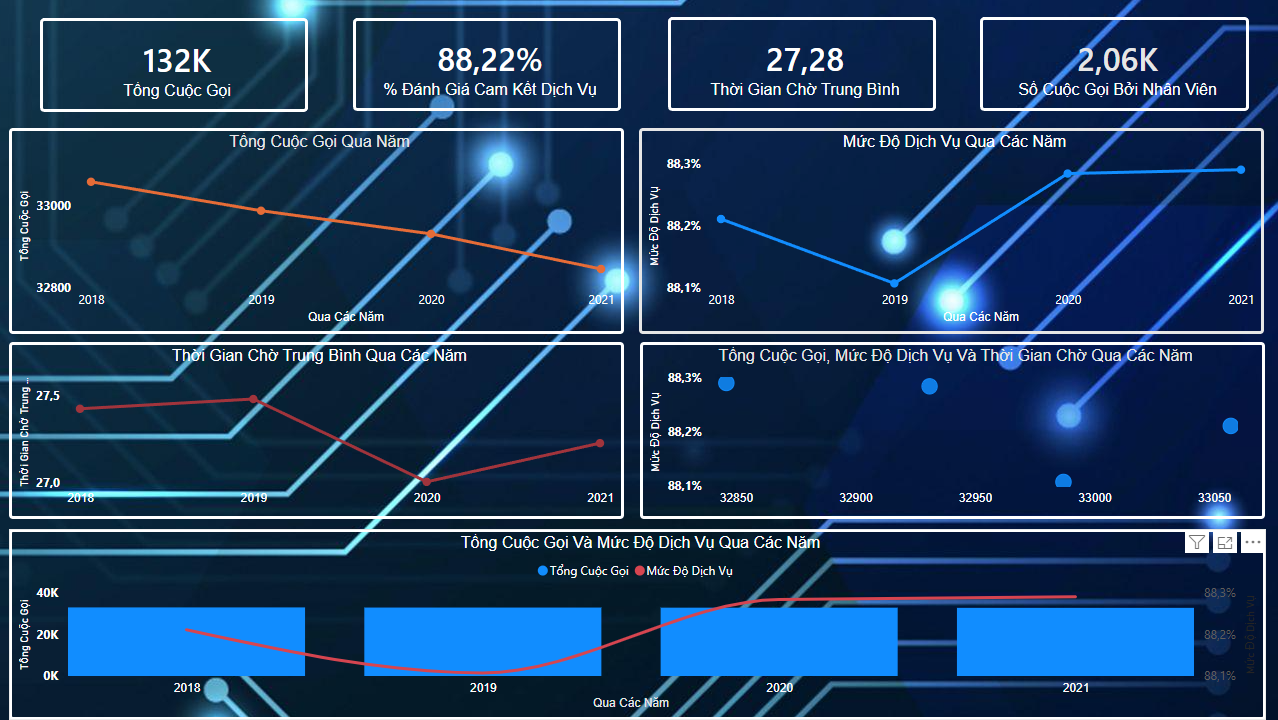

What the dashboard file says about the page in this screenshot:
{"tool":"powerbi","page":{"name":"Page 3","canvas":[1280,720],"ordinal":2},"visuals":[{"type":"cardVisual","fields":{"Data":["CCA.Total Calls"]},"box":[23.3,0.9,301.9,127.7],"z":0},{"type":"cardVisual","fields":{"Data":["CCA.Rep SLA %"]},"box":[335.5,0.9,302.7,126.8],"z":1000},{"type":"cardVisual","fields":{"Data":["CCA.Rep Avg Wait"]},"box":[651.2,0,301.9,127.7],"z":2000},{"type":"cardVisual","fields":{"Data":["CCA.Calls per Employee"]},"box":[963.5,0,302.7,127.7],"z":3000},{"type":"lineChart","title":"Tổng Cuộc Gọi  Qua Năm","fields":{"Category":["Calendar.Year"],"Y":["CCA.Total Calls"]},"box":[9.5,127.7,615,206.1],"z":4000},{"type":"lineChart","title":"Mức Độ Dịch Vụ  Qua Các Năm","fields":{"Category":["Calendar.Year"],"Y":["CCA.Rep SLA %"]},"box":[639.1,127.7,625.3,206.1],"z":5000},{"type":"lineChart","title":"Thời Gian Chờ Trung Bình  Qua Các Năm","fields":{"Category":["Calendar.Year"],"Y":["CCA.Rep Avg Wait"]},"box":[9.5,341.6,615,177.7],"z":6000},{"type":"scatterChart","title":"Tổng Cuộc Gọi, Mức Độ Dịch Vụ Và Thời Gian Chờ  Qua Các Năm","fields":{"X":["CCA.Total Calls"],"Y":["CCA.Rep SLA %"],"Size":["CCA.Rep Avg Wait"],"Category":["Calendar.Year"]},"box":[640,341.6,625.3,177.7],"z":7000},{"type":"lineClusteredColumnComboChart","title":"Tổng Cuộc Gọi Và Mức Độ Dịch Vụ  Qua Các Năm","fields":{"Category":["Calendar.Year"],"Y":["CCA.Total Calls"],"Y2":["CCA.Rep SLA %"]},"box":[9.5,528.7,1256.7,191.5],"z":8000}]}

Visuals, with their boxes in screenshot pixels (x1, y1, x2, y2), scaled from the page's 1280x720 canvas onto the 1278x720 screenshot:
cardVisual - CCA.Total Calls: bbox=[23, 1, 325, 129]
cardVisual - CCA.Rep SLA %: bbox=[335, 1, 637, 128]
cardVisual - CCA.Rep Avg Wait: bbox=[650, 0, 952, 128]
cardVisual - CCA.Calls per Employee: bbox=[962, 0, 1264, 128]
"Tổng Cuộc Gọi  Qua Năm" lineChart: bbox=[9, 128, 624, 334]
"Mức Độ Dịch Vụ  Qua Các Năm" lineChart: bbox=[638, 128, 1262, 334]
"Thời Gian Chờ Trung Bình  Qua Các Năm" lineChart: bbox=[9, 342, 624, 519]
"Tổng Cuộc Gọi, Mức Độ Dịch Vụ Và Thời Gian Chờ  Qua Các Năm" scatterChart: bbox=[639, 342, 1263, 519]
"Tổng Cuộc Gọi Và Mức Độ Dịch Vụ  Qua Các Năm" lineClusteredColumnComboChart: bbox=[9, 529, 1264, 719]
